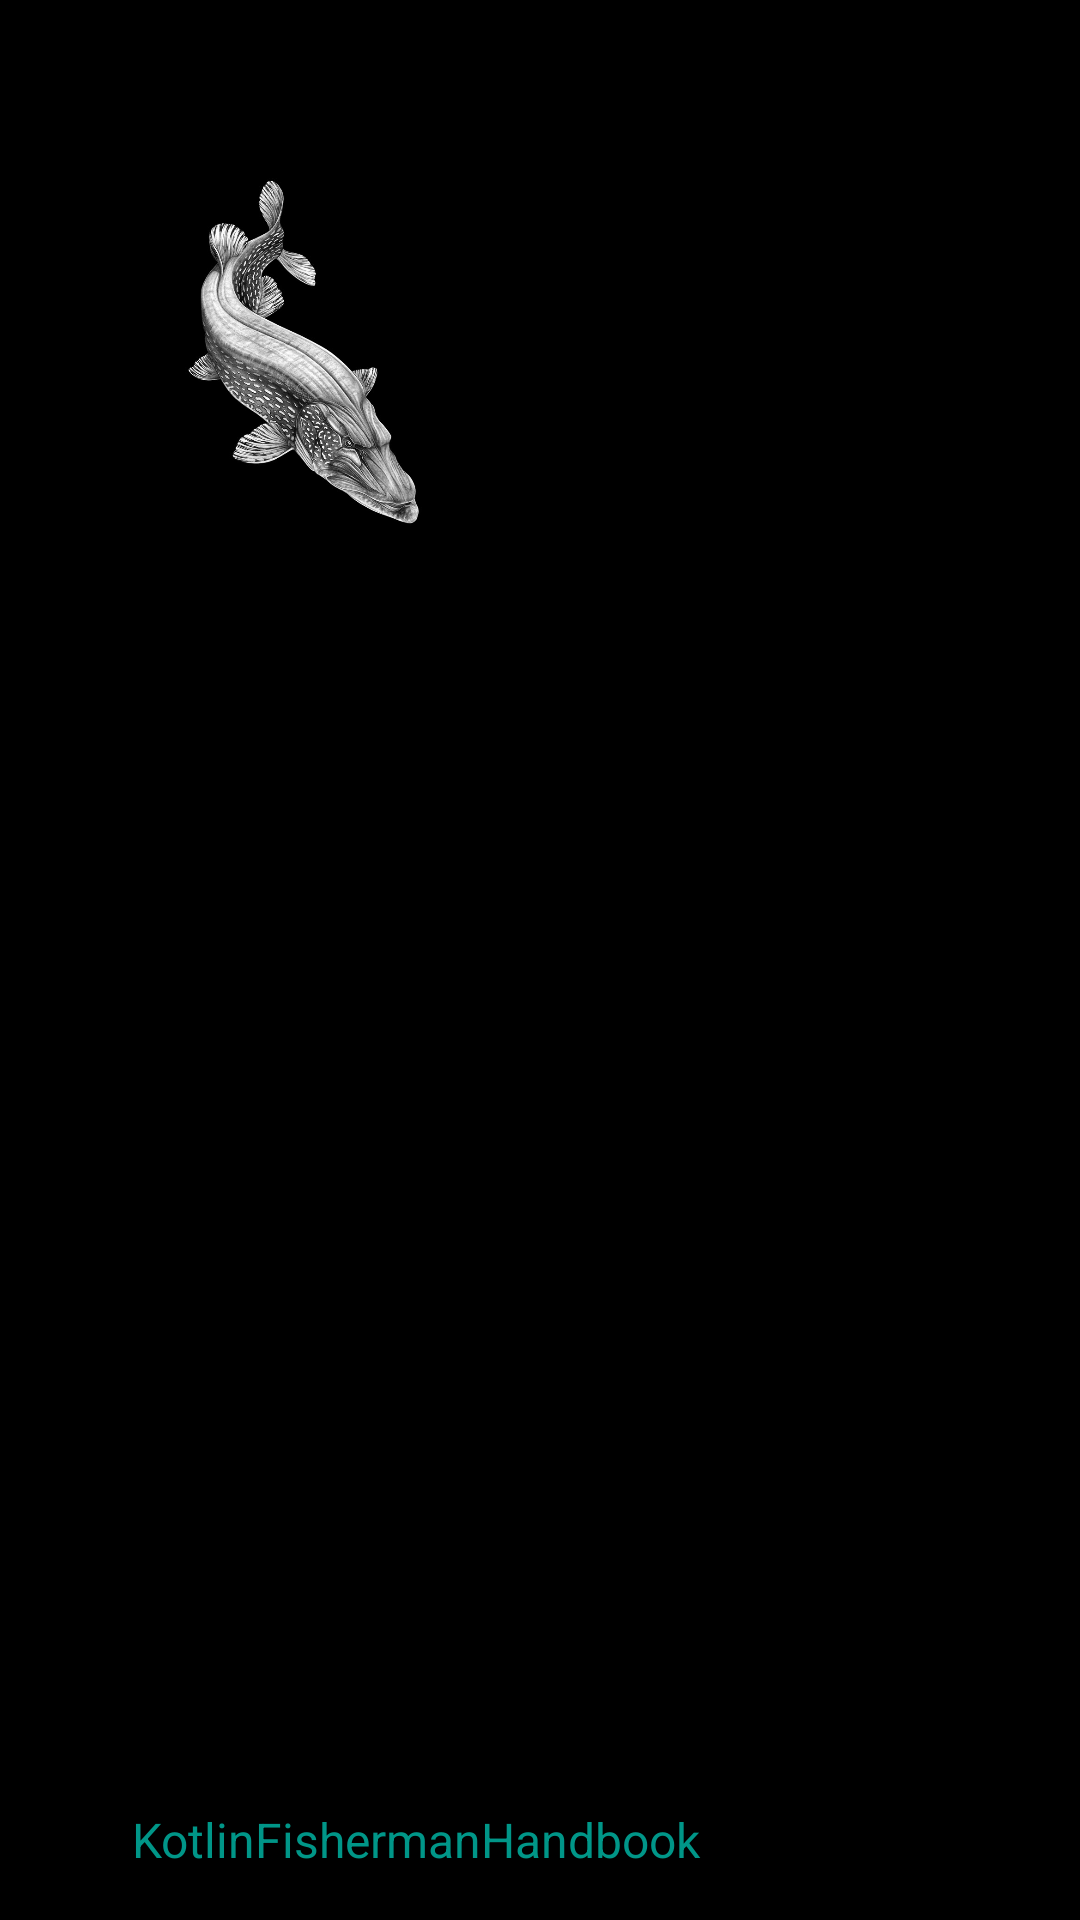

Named icons in this screenshot (1080px×1920px) and their centers, (x,y):
pike title: (303,352)
